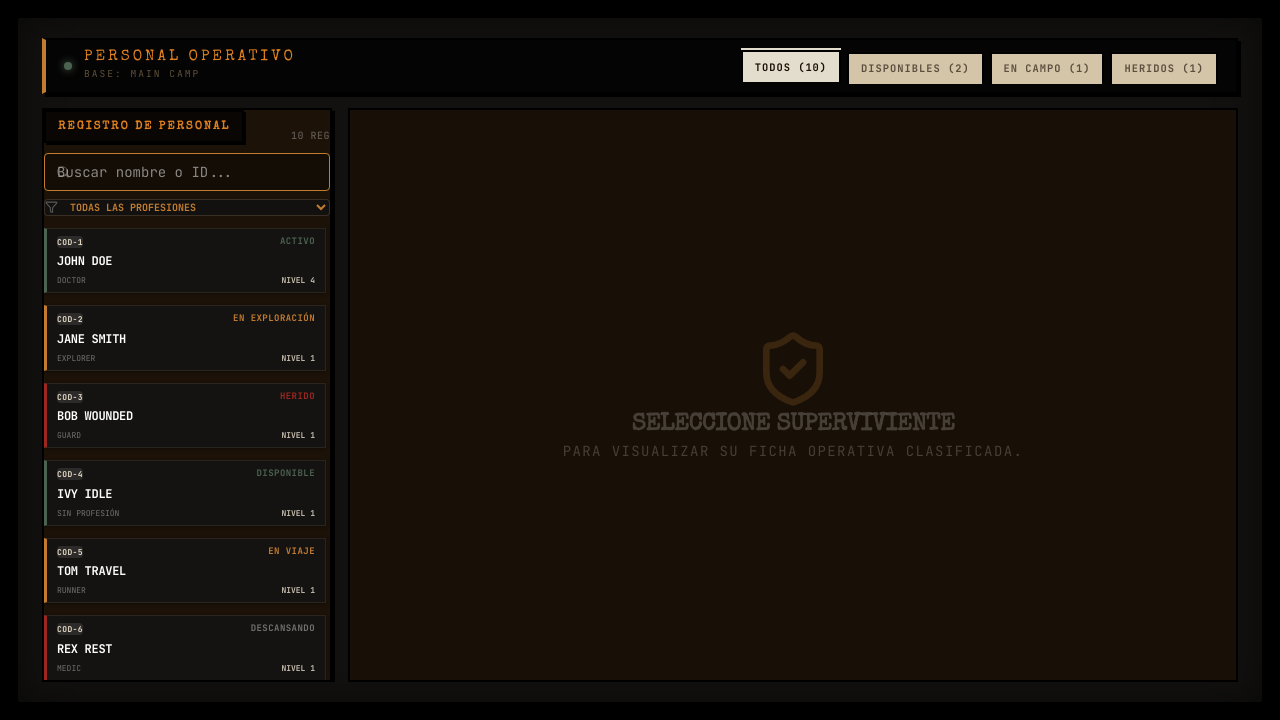
it: TravelTeam › renders fallback details for incomplete personnel records
The width and height of the screenshot is (1280, 720).
Step 1. Click the heading "Ivy Idle" → (85, 494), box [57, 486, 112, 502]
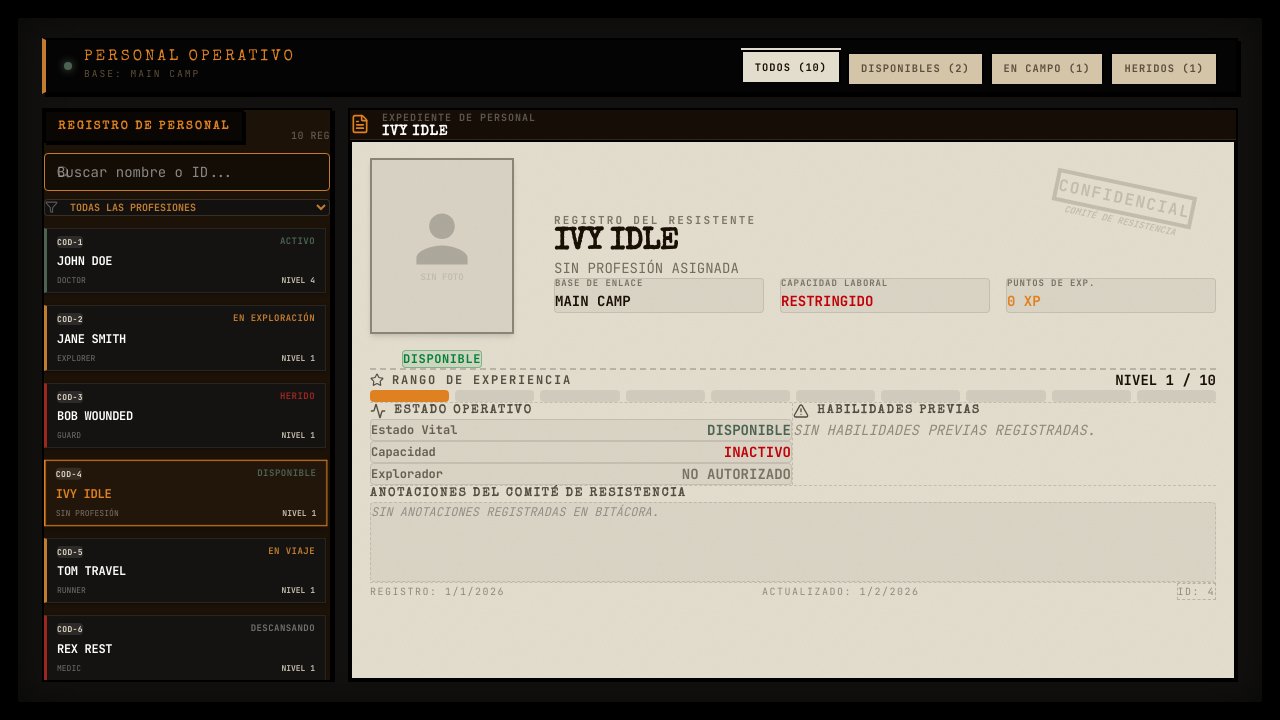
Now the text "RESTRINGIDO" is shown, box [781, 292, 873, 310]
Now the text "0 XP" is shown, box [1007, 292, 1041, 310]
Now the text "NIVEL 1 / 10" is shown, box [1115, 370, 1216, 390]
